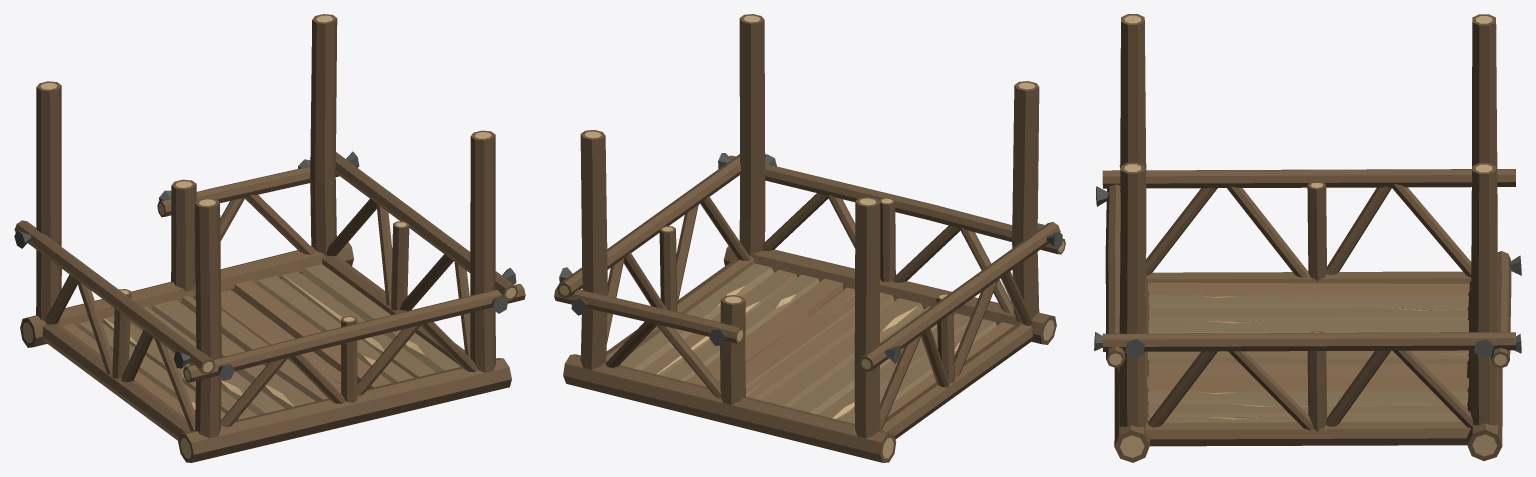
The model's file is rpgpp_ag_tower_01_platform_02b.fbx.
3 renders of one model, left to right at view 1: azimuth 30°, elevation 25°; view 2: azimuth 150°, elevation 25°; view 3: azimuth 270°, elevation 25°, orthographic. The views are drawn at different scales.
Parts seen in each view (by area): view 1: rpgpp_ag_tower_01_platform_02b; view 2: rpgpp_ag_tower_01_platform_02b; view 3: rpgpp_ag_tower_01_platform_02b.
Boxes of the visible parts, x1,y1,x2,y2 form: rpgpp_ag_tower_01_platform_02b: [14, 14, 525, 462]; rpgpp_ag_tower_01_platform_02b: [554, 14, 1065, 462]; rpgpp_ag_tower_01_platform_02b: [1094, 14, 1521, 462].
Size of the model in its own units: 4.84 by 3.52 by 4.81.
